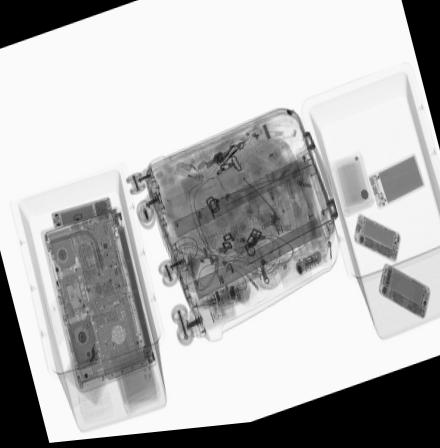Lighter: (243, 273, 259, 297)
